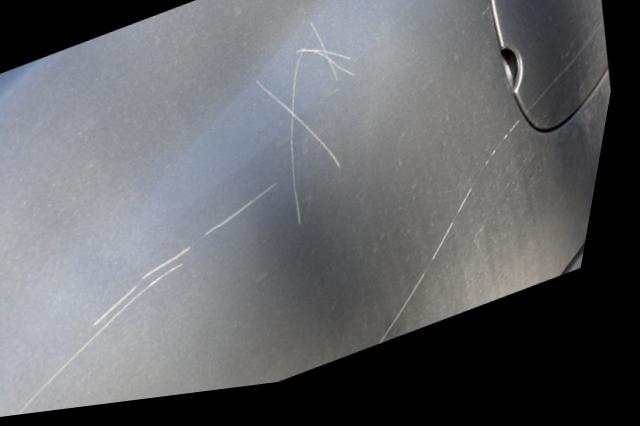scratch: (24, 28, 364, 418), (389, 130, 530, 357)
